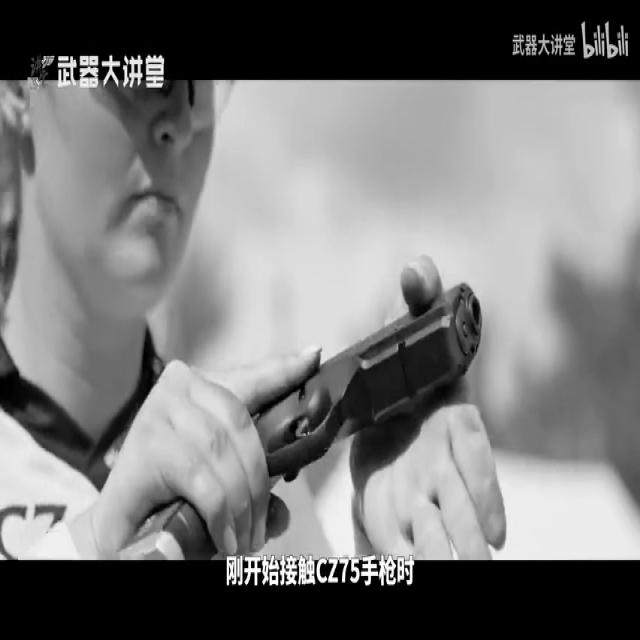Hand-Gun: (152, 234, 514, 640)
